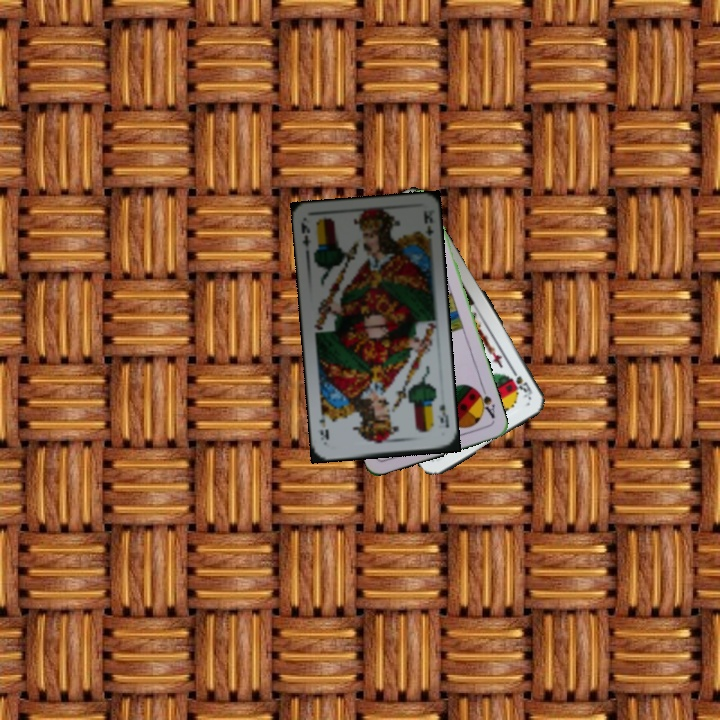EK: (297, 219, 313, 257), (435, 400, 452, 430)
SA: (472, 383, 498, 421)
SK: (507, 363, 535, 400)
